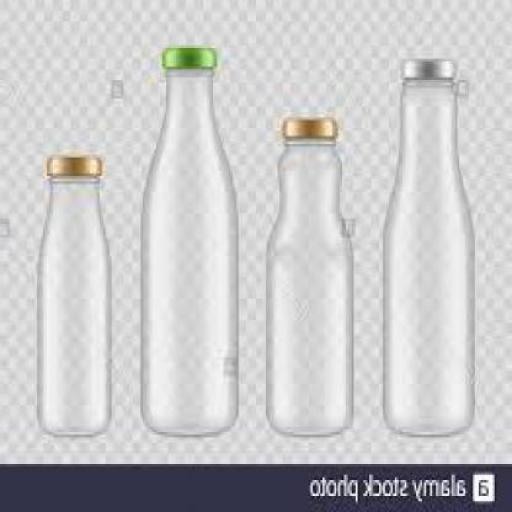glass: (144, 64, 240, 434), (385, 78, 475, 434), (270, 134, 354, 432), (39, 174, 111, 432)
metal: (404, 53, 458, 80), (51, 151, 102, 176), (164, 45, 218, 67), (286, 115, 340, 134)
